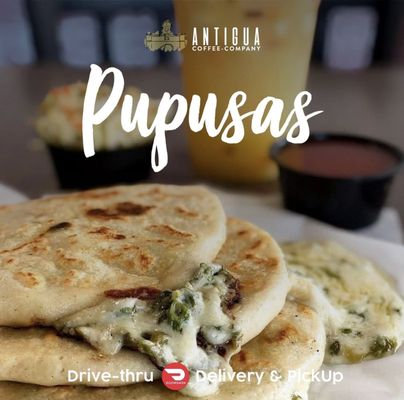sandwich: (0, 181, 300, 391)
